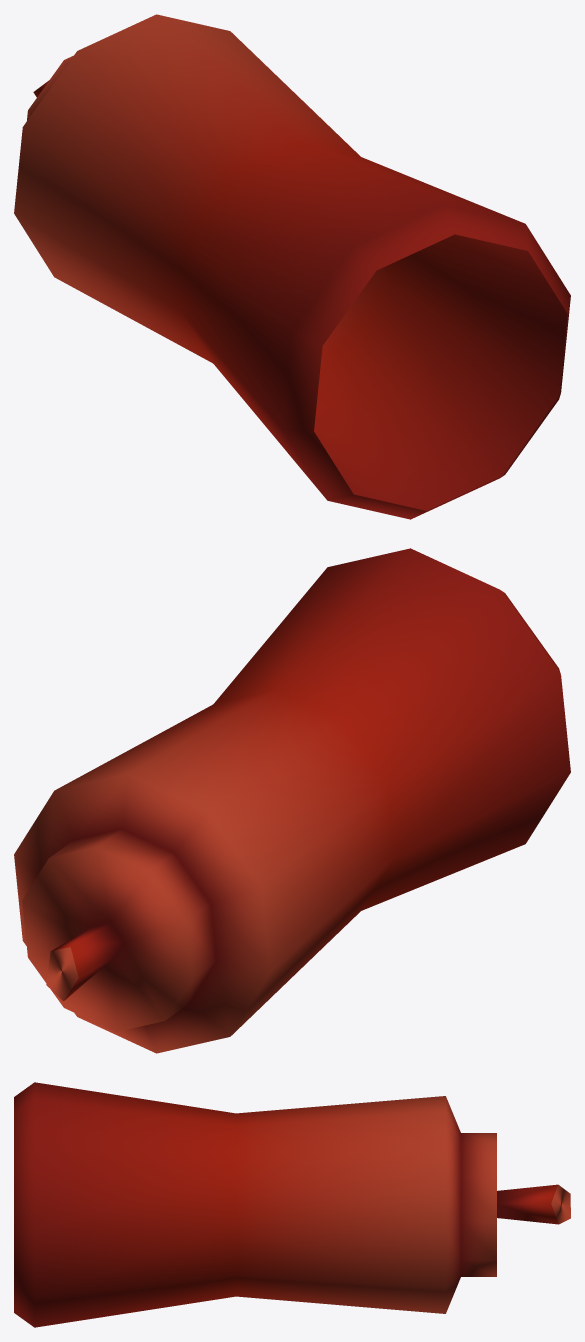
The model's file is KetchupBottle.fbx.
3 renders of one model, top to bottom at view 1: azimuth 30°, elevation 25°; view 2: azimuth 150°, elevation 25°; view 3: azimuth 270°, elevation 25°, orthographic. The views are drawn at different scales.
Parts seen in each view (by area): view 1: KetchupBottle; view 2: KetchupBottle; view 3: KetchupBottle.
Part boxes in pixels (left/top/right/bottom): KetchupBottle: left=14, top=14, right=570, bottom=519; KetchupBottle: left=14, top=548, right=570, bottom=1053; KetchupBottle: left=14, top=1082, right=570, bottom=1327.
Size of the model in its own units: 15.22 by 15.45 by 35.16.
